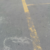zebra: (3, 1, 39, 8)
